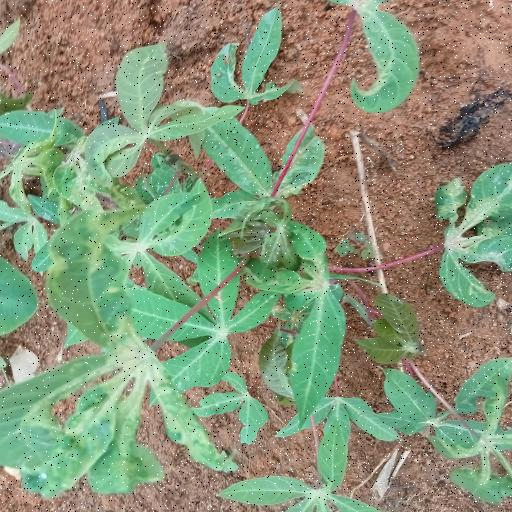Cassava_Mosaic: (2, 209, 232, 485), (76, 51, 228, 175), (263, 220, 338, 413), (429, 377, 511, 512), (440, 159, 512, 305)
